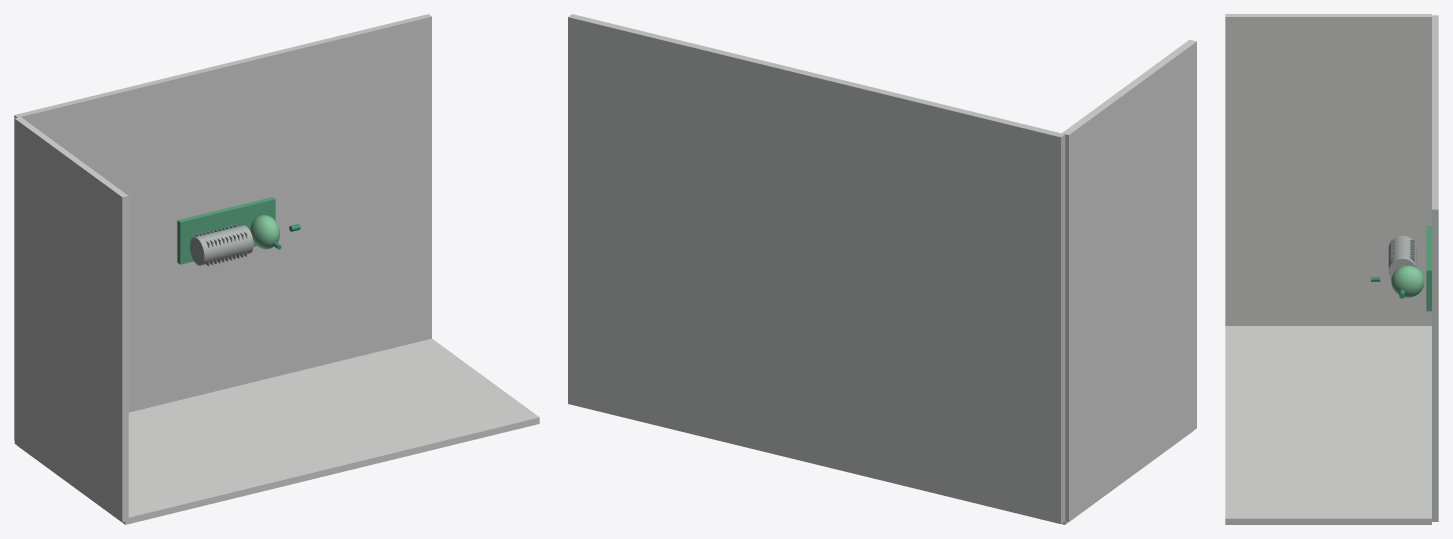
File: candidate-a-coordinated.glb
The picture shows the model from 3 angles, left to right: view 1: azimuth 30°, elevation 25°; view 2: azimuth 150°, elevation 25°; view 3: azimuth 270°, elevation 25°; orthographic projection. The views are drawn at different scales.
Parts seen in each view (by area): view 1: room_slab, back_wall, side_wall, equipment_base, motor, pump_casing; view 2: room_slab, side_wall; view 3: side_wall, back_wall, room_slab, pump_casing, motor, equipment_base.
Boxes of the visible parts, box(x1,y1,x2,y2) form: room_slab: box(14, 14, 431, 440); back_wall: box(18, 338, 539, 524); side_wall: box(14, 117, 128, 522); equipment_base: box(177, 197, 275, 264); motor: box(190, 225, 253, 265); pump_casing: box(250, 215, 279, 249); room_slab: box(568, 14, 1065, 523); side_wall: box(1062, 39, 1196, 521); side_wall: box(1225, 14, 1431, 325); back_wall: box(1225, 326, 1431, 524); room_slab: box(1432, 15, 1438, 521); pump_casing: box(1391, 265, 1424, 297); motor: box(1388, 236, 1416, 278); equipment_base: box(1426, 226, 1431, 311).
Bounding box in the file's own units: 8.06 × 6.06 × 3.72.
